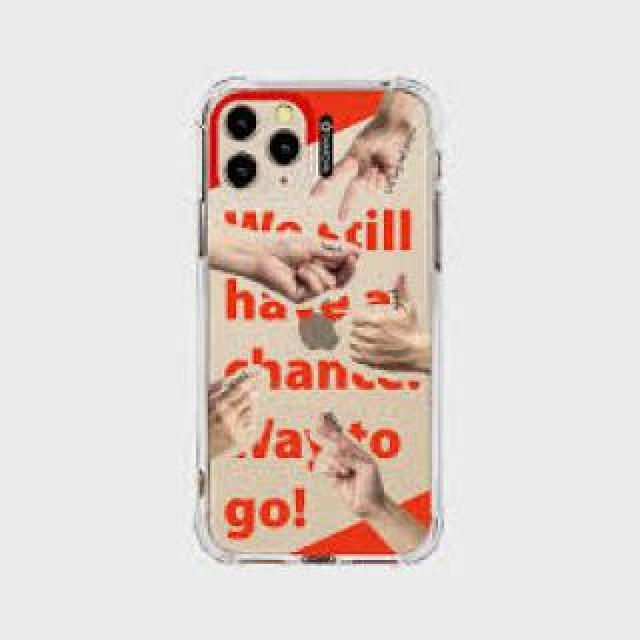smart phone: (204, 32, 464, 575)
